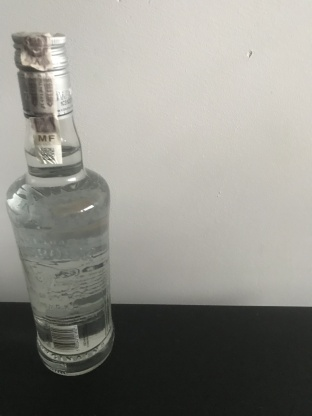nakretka: (10, 28, 74, 119)
